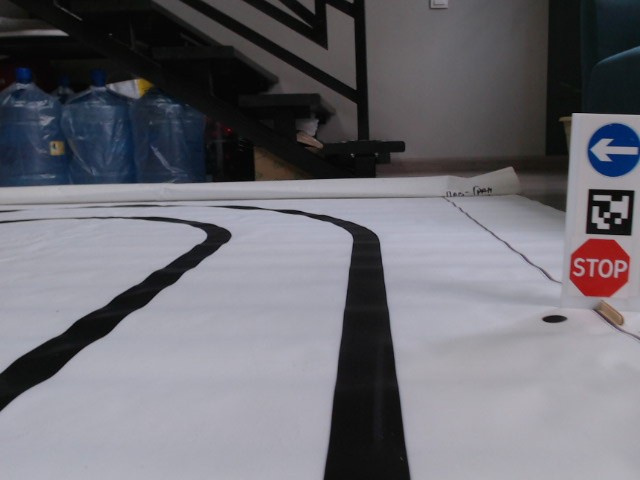Stop: (569, 235, 631, 299)
